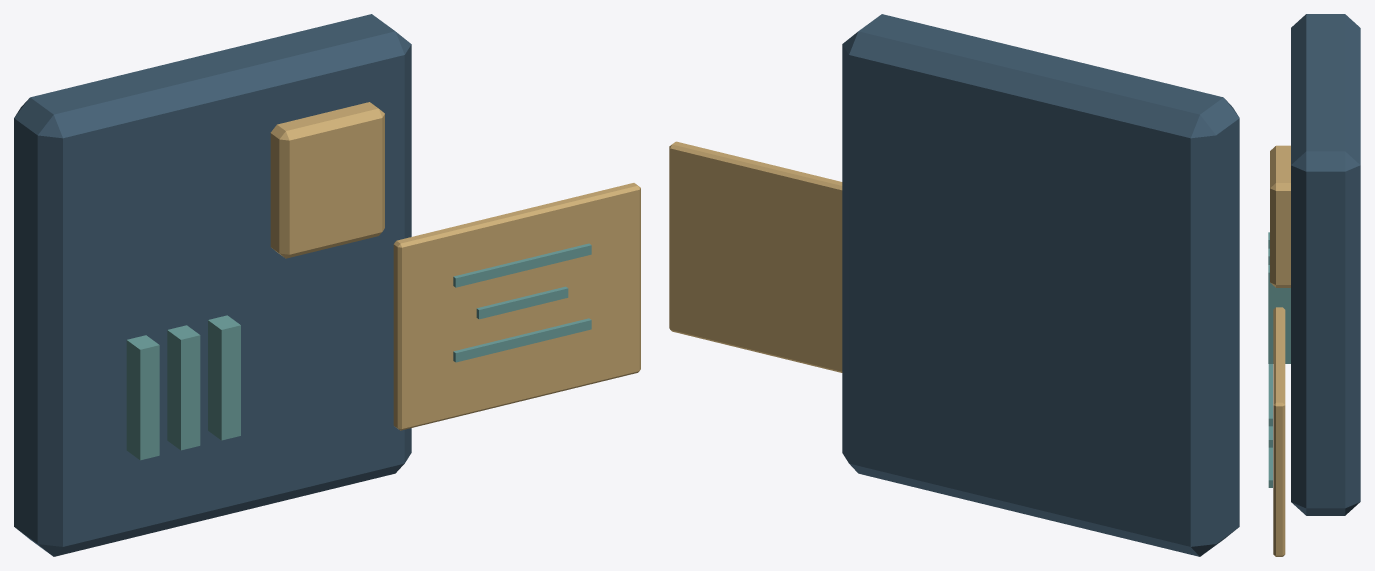
The model's file is biped_receptionist.glb.
3 views of the same model, side by side, from view 1: azimuth 30°, elevation 25°; view 2: azimuth 150°, elevation 25°; view 3: azimuth 270°, elevation 25° (orthographic). The views are drawn at different scales.
Visible parts, largest first — view 1: biped_receptionist; view 2: biped_receptionist; view 3: biped_receptionist.
Boxes of the visible parts, x1=… form: biped_receptionist: x1=14, y1=14, x2=640, y2=556; biped_receptionist: x1=669, y1=14, x2=1239, y2=556; biped_receptionist: x1=1268, y1=14, x2=1360, y2=556.
Bounding box in the file's own units: 0.3598 × 0.26 × 0.0595.
